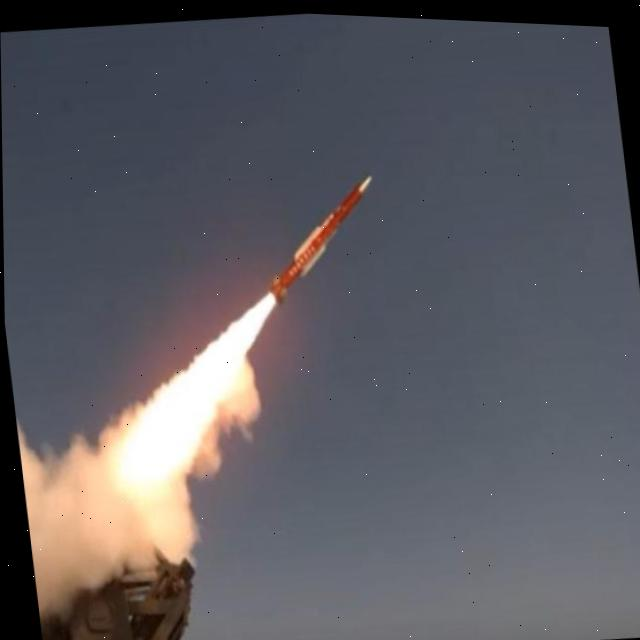missile: (249, 163, 386, 305)
